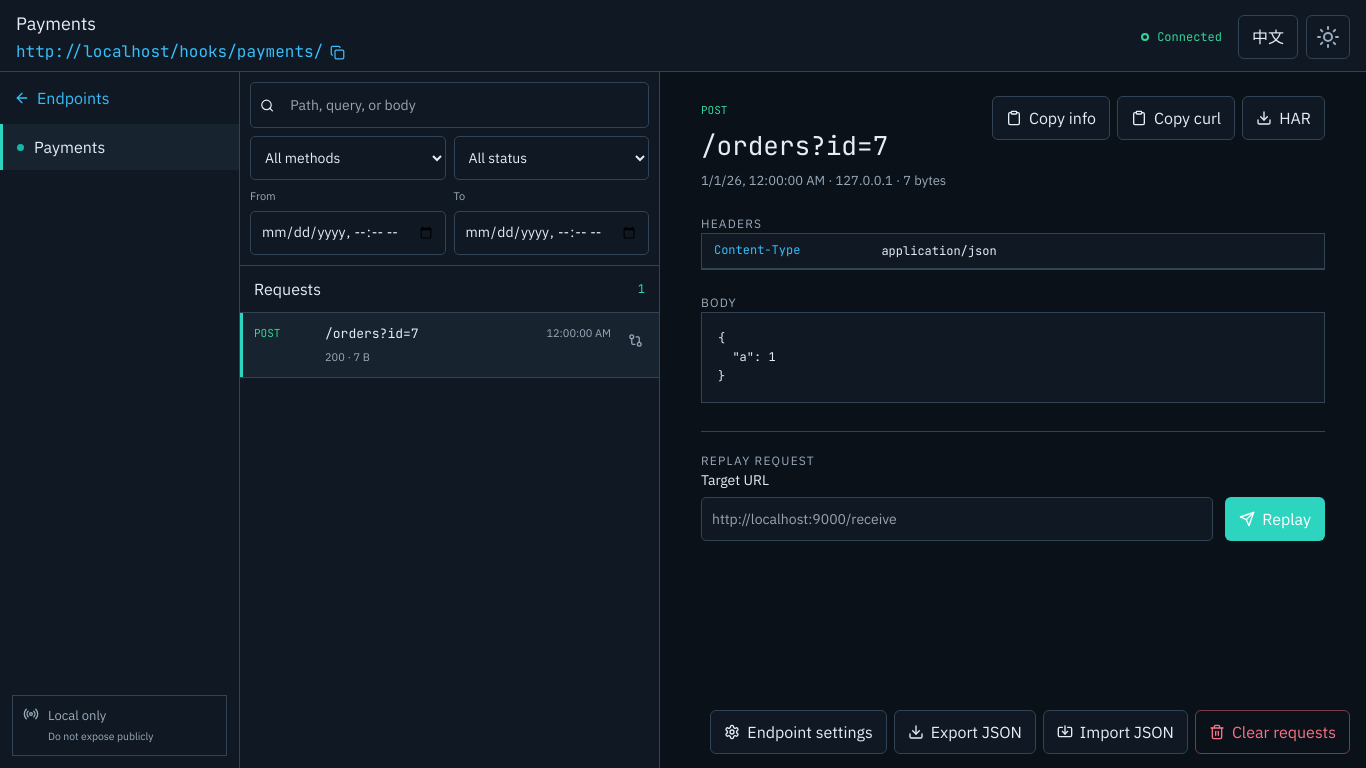
it: critical flows › traps settings focus, closes with Escape, and restores focus
The image size is (1366, 768).
Click the button "Endpoint settings": point(798, 732) [710,710,887,754]
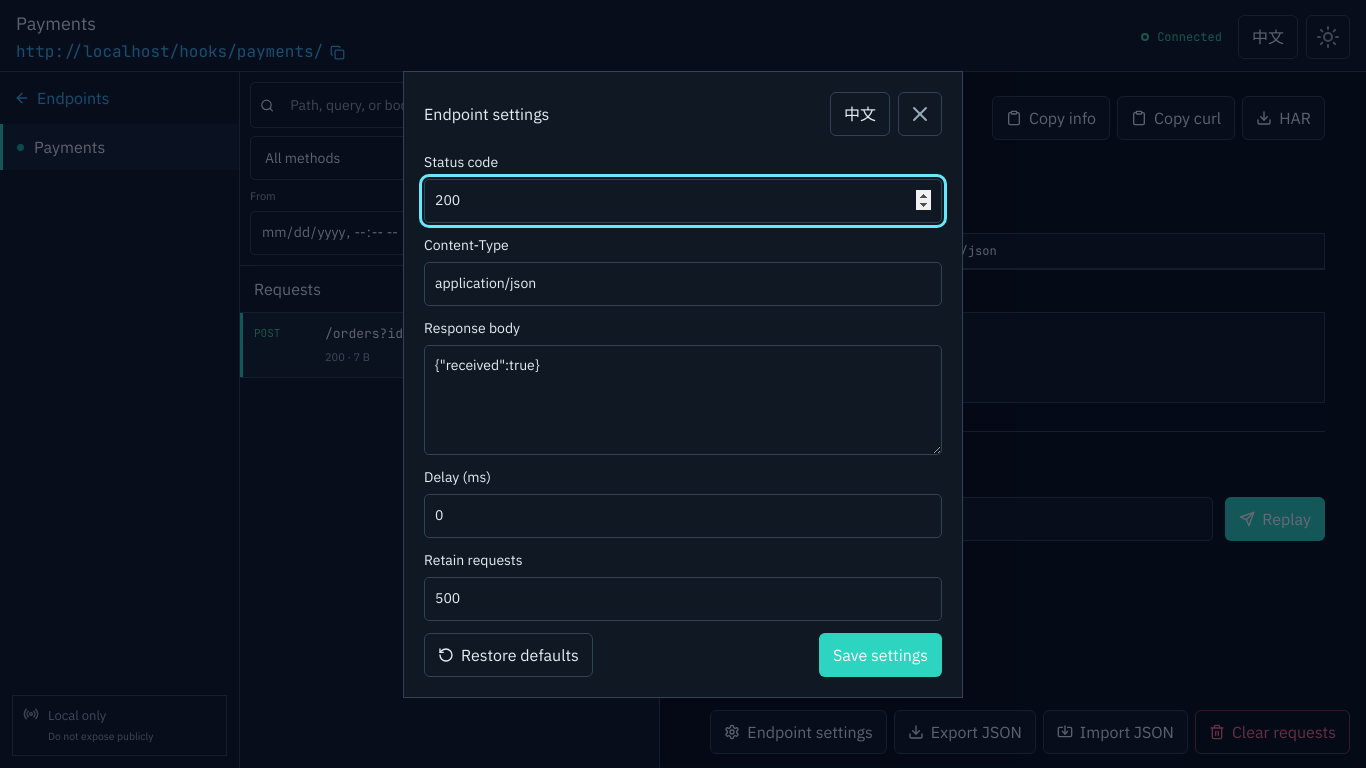
Press Shift+Tab
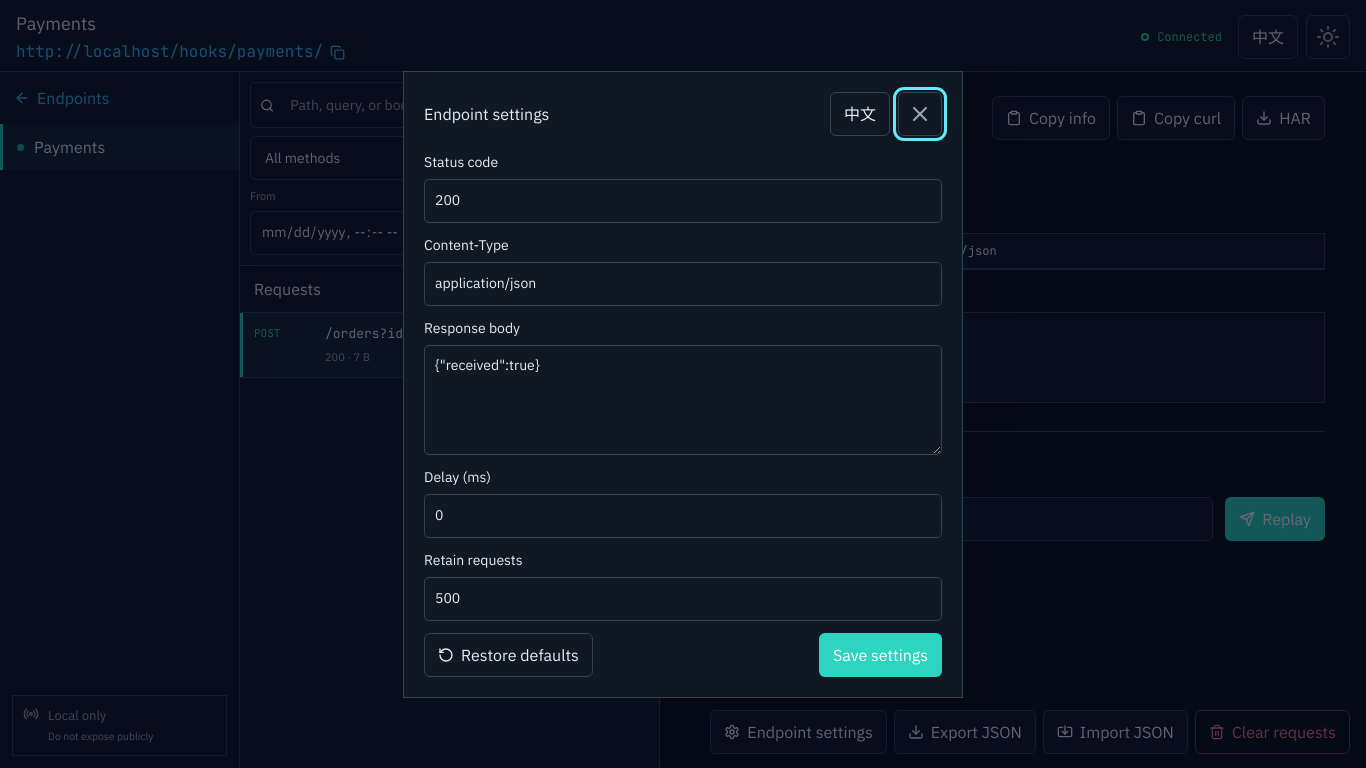
Press Escape
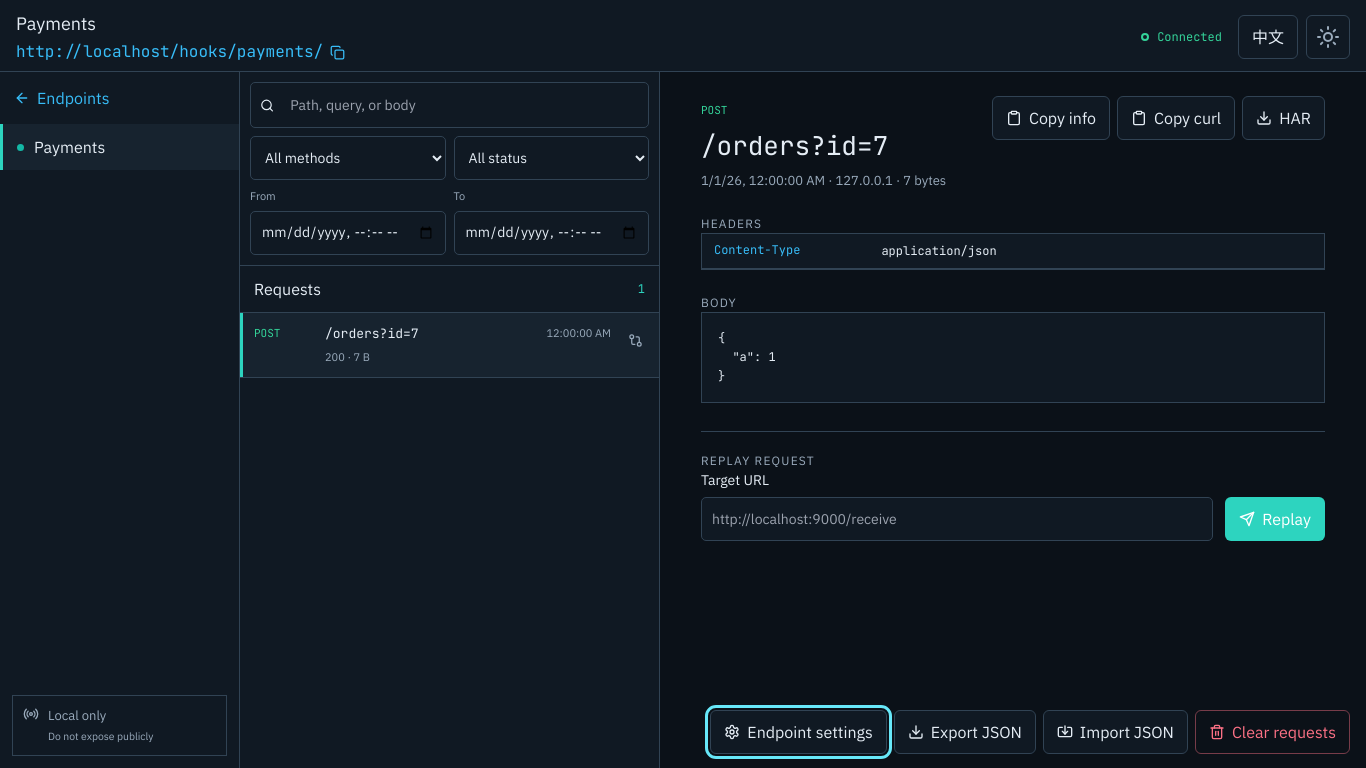
Result: the dialog is gone
